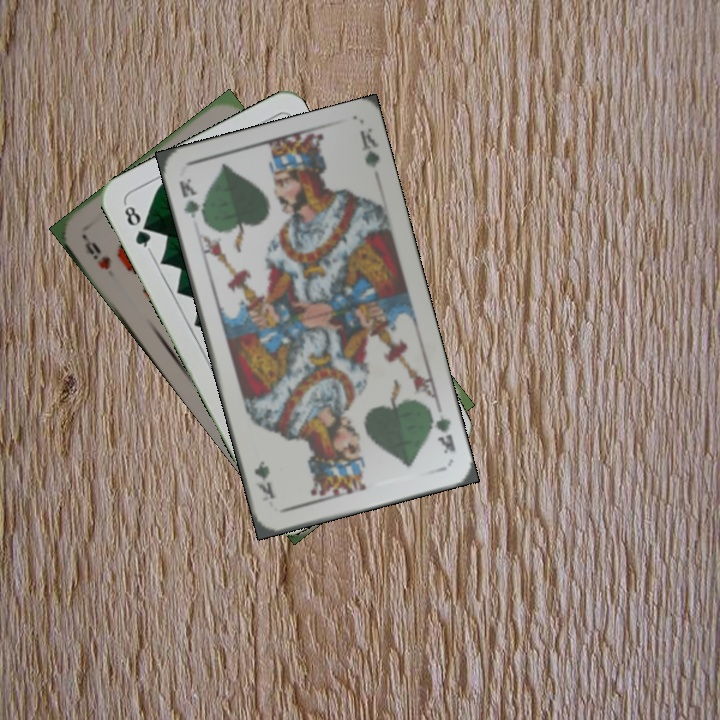G8: (120, 199, 154, 254)
GK: (425, 403, 459, 457), (174, 174, 209, 226)
H9: (79, 232, 113, 273)
